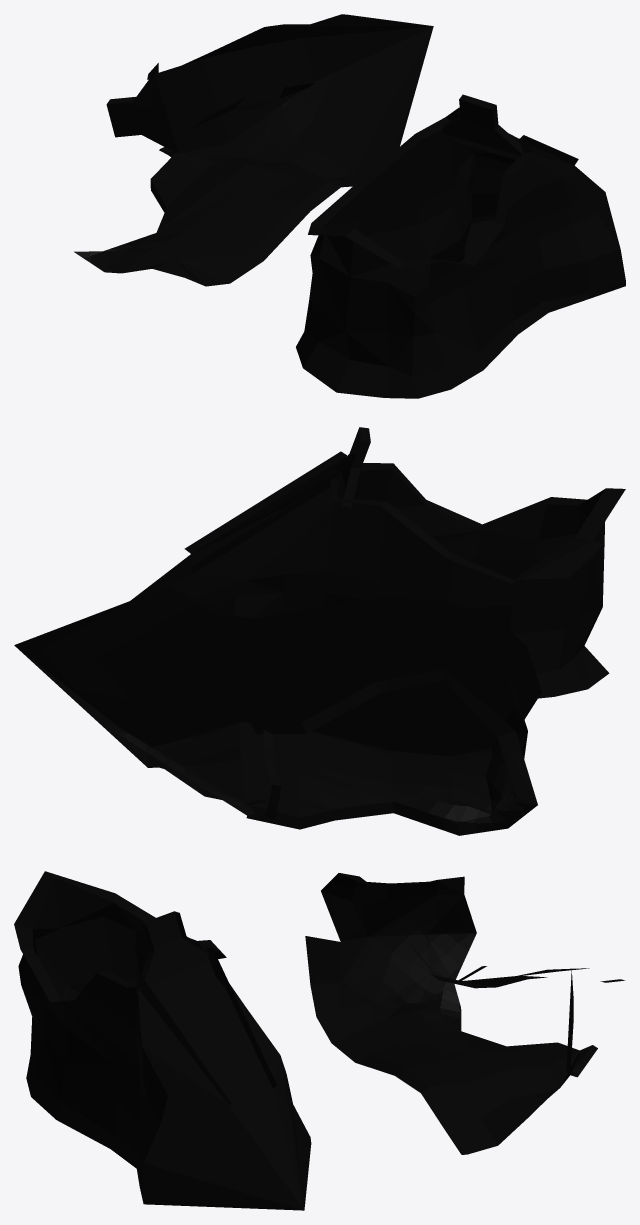
The model's file is pegasus_inside.glb.
The picture shows the model from 3 angles, top to bottom: view 1: azimuth 30°, elevation 25°; view 2: azimuth 150°, elevation 25°; view 3: azimuth 270°, elevation 25°; orthographic projection. The views are drawn at different scales.
Parts seen in each view (by area): view 1: pegasus_inside; view 2: pegasus_inside; view 3: pegasus_inside.
Boxes of the visible parts, x1=… form: pegasus_inside: x1=74, y1=14, x2=625, y2=398; pegasus_inside: x1=14, y1=427, x2=625, y2=835; pegasus_inside: x1=14, y1=871, x2=625, y2=1210.
Size of the model in its own units: 2.49 by 1.03 by 2.52.
1 material, 1 textured.
